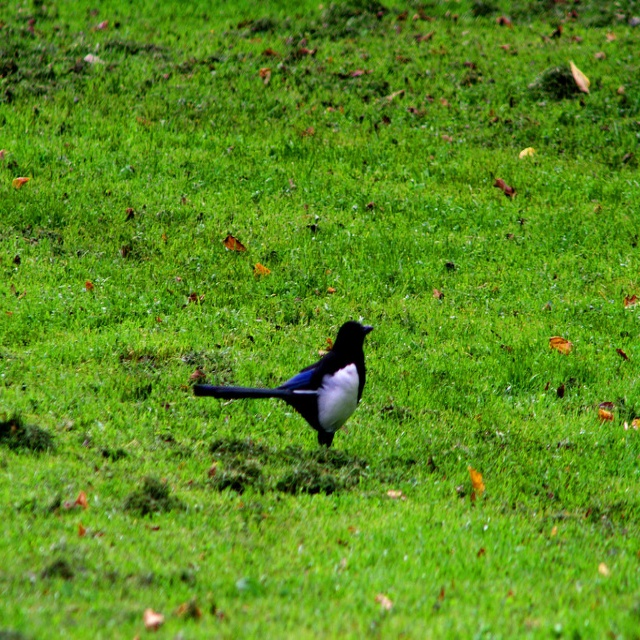Magpie: (192, 320, 375, 448)
